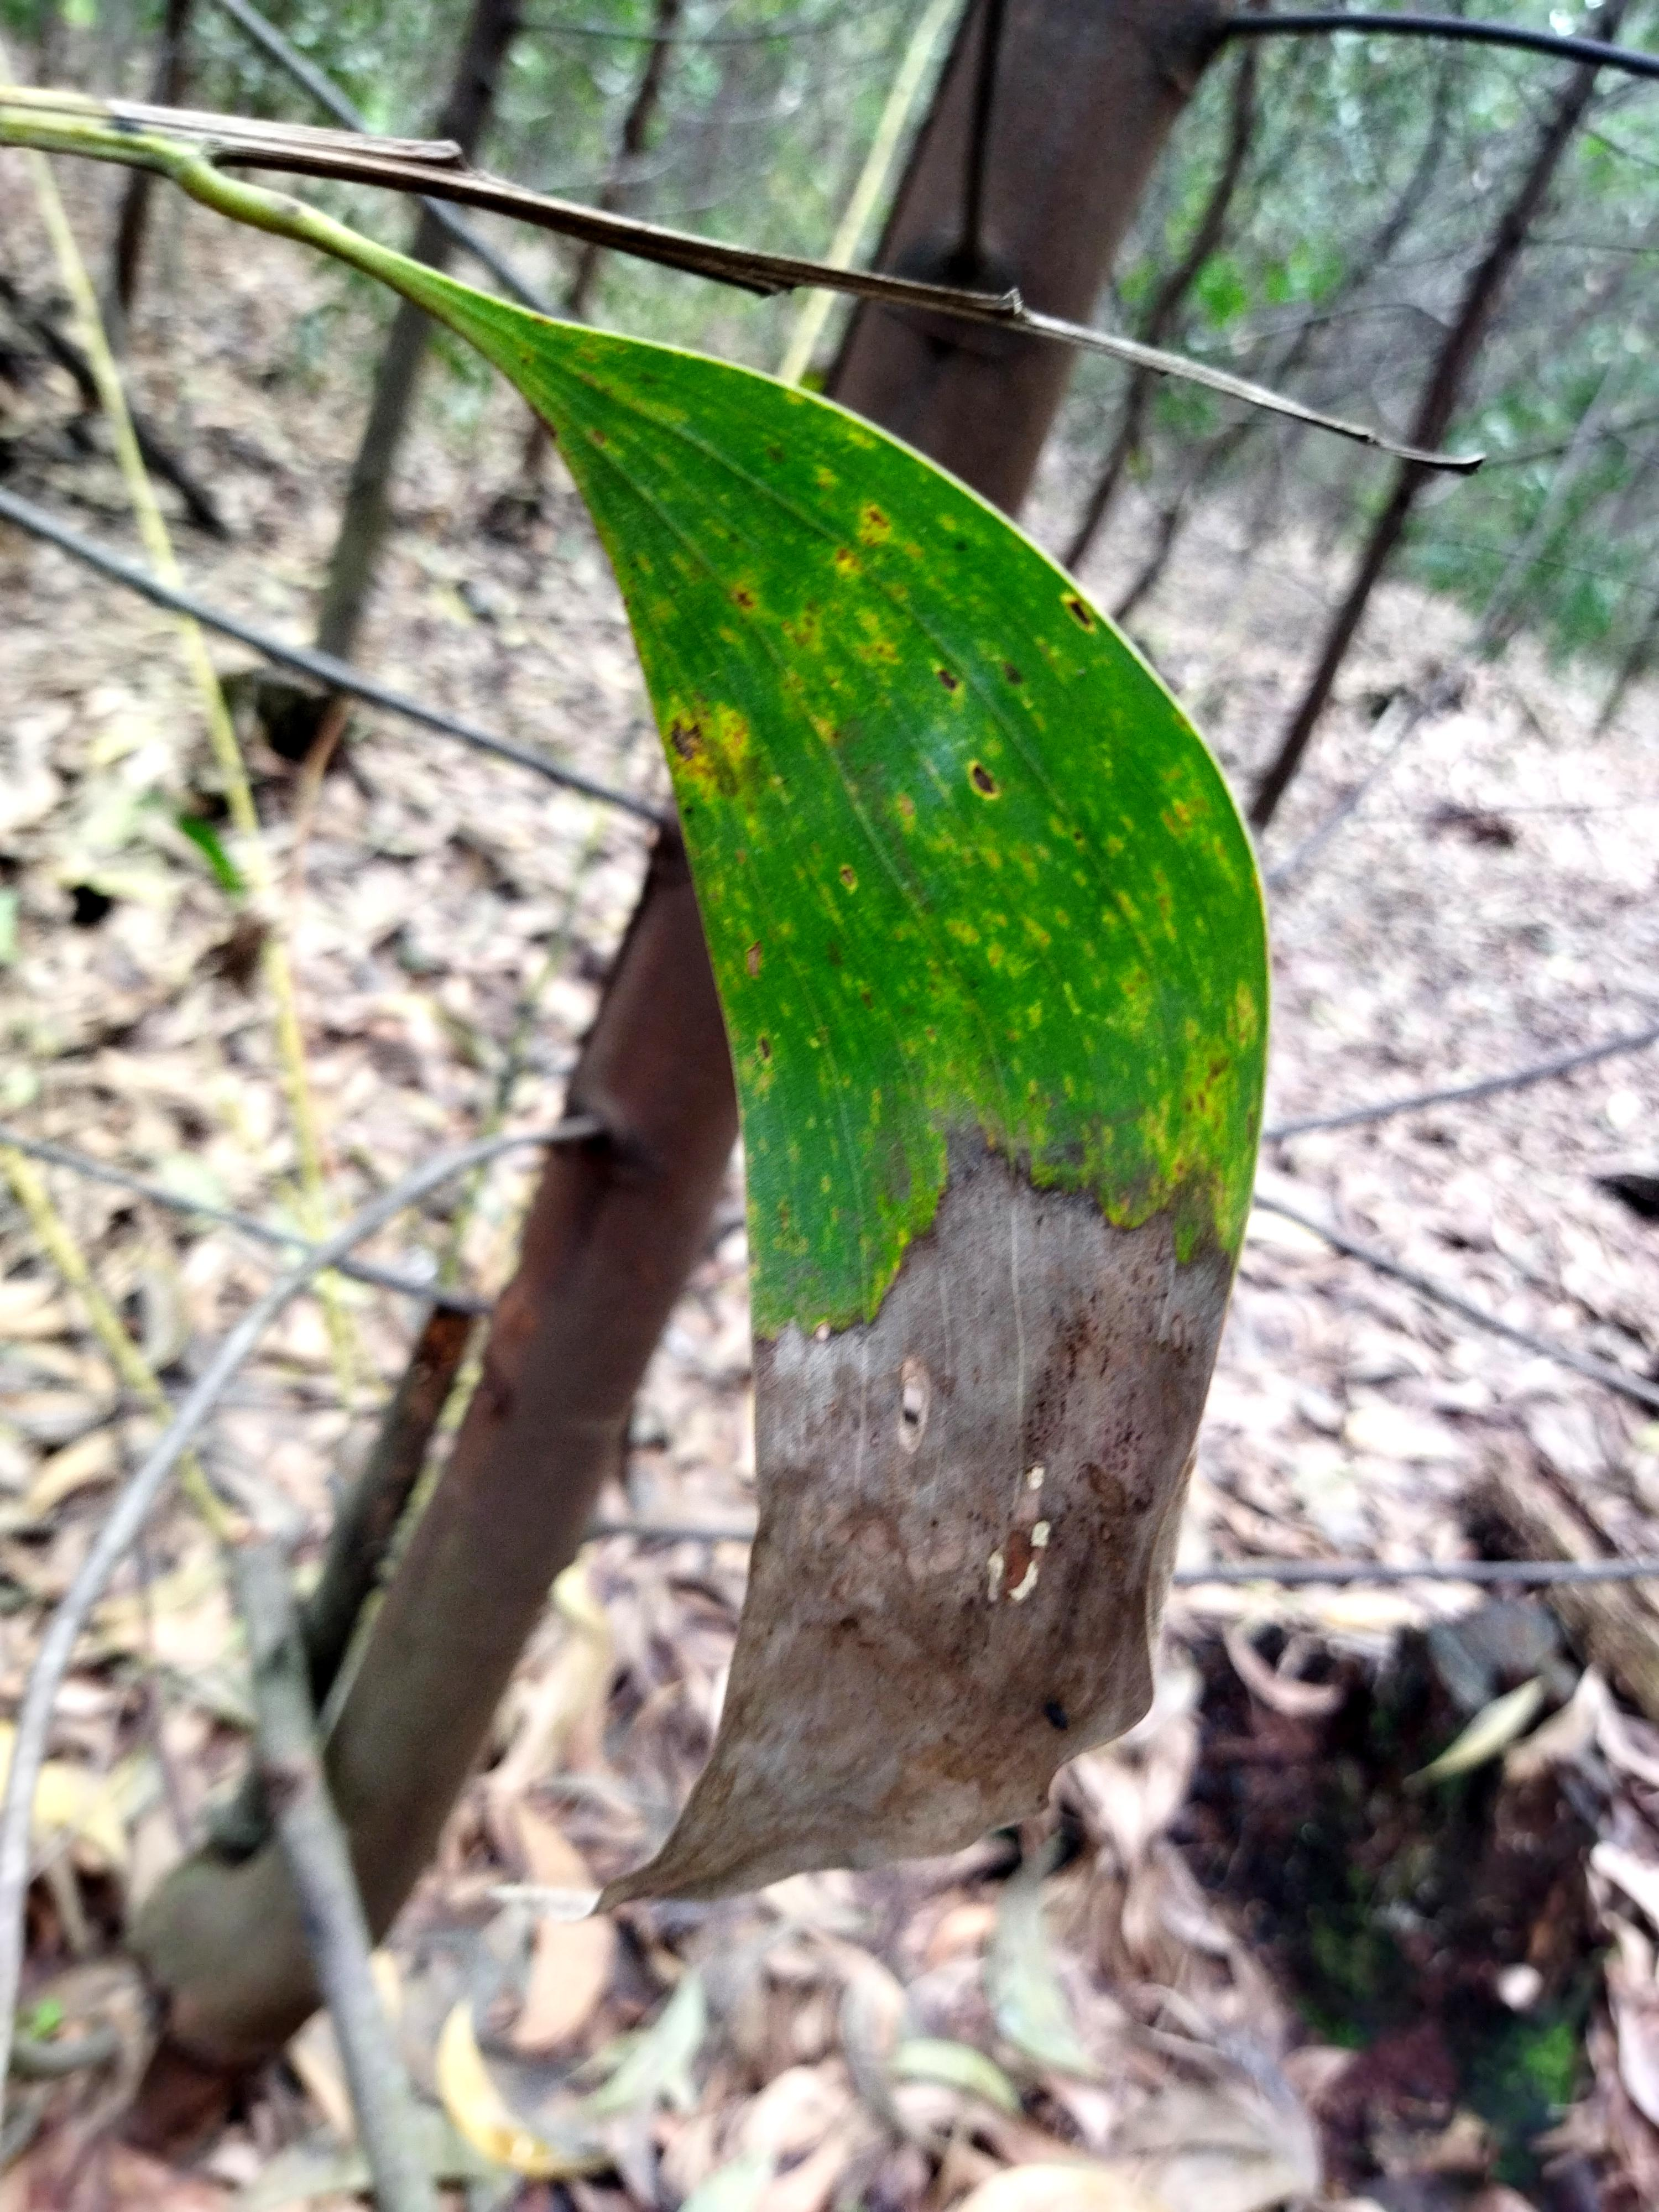Cylindrocladium: (770, 1184, 1173, 1959)
Xanthomonas: (488, 327, 1265, 1129)
